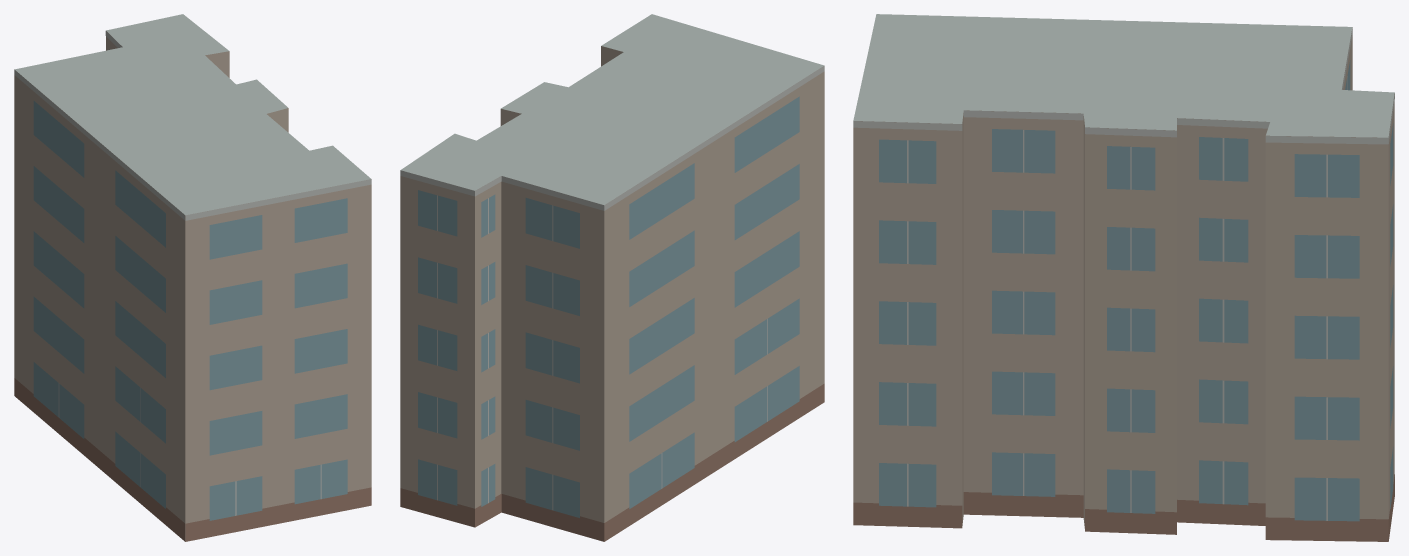
The model's file is survey-upis-33005636.glb.
3 views of the same model, side by side, from view 1: azimuth 30°, elevation 25°; view 2: azimuth 150°, elevation 25°; view 3: azimuth 270°, elevation 25° (orthographic). The views are drawn at different scales.
Visible parts, largest first — view 1: survey-upis-33005636.tmp; view 2: survey-upis-33005636.tmp; view 3: survey-upis-33005636.tmp.
Boxes of the visible parts, <box> form: survey-upis-33005636.tmp: <box>14,14,371,541</box>; survey-upis-33005636.tmp: <box>400,14,824,541</box>; survey-upis-33005636.tmp: <box>853,14,1394,541</box>.
Size of the model in its own units: 9.45 by 14.4 by 17.49.
